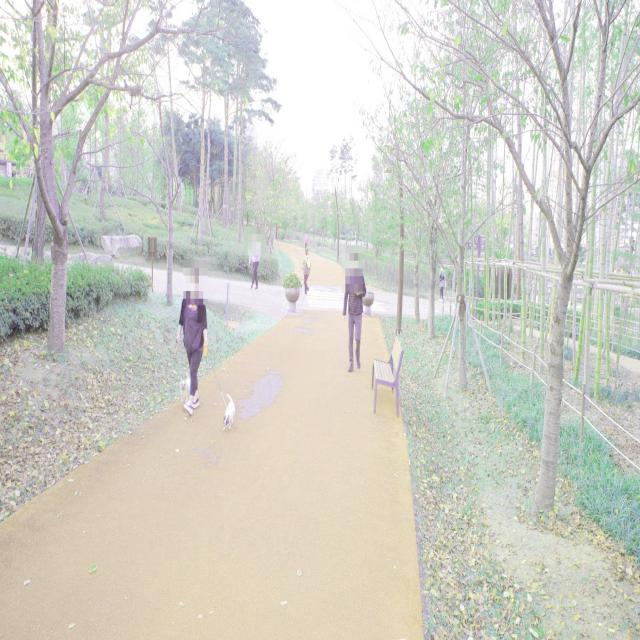Leashed_Dog: (196, 333, 236, 430), (176, 332, 193, 406)
